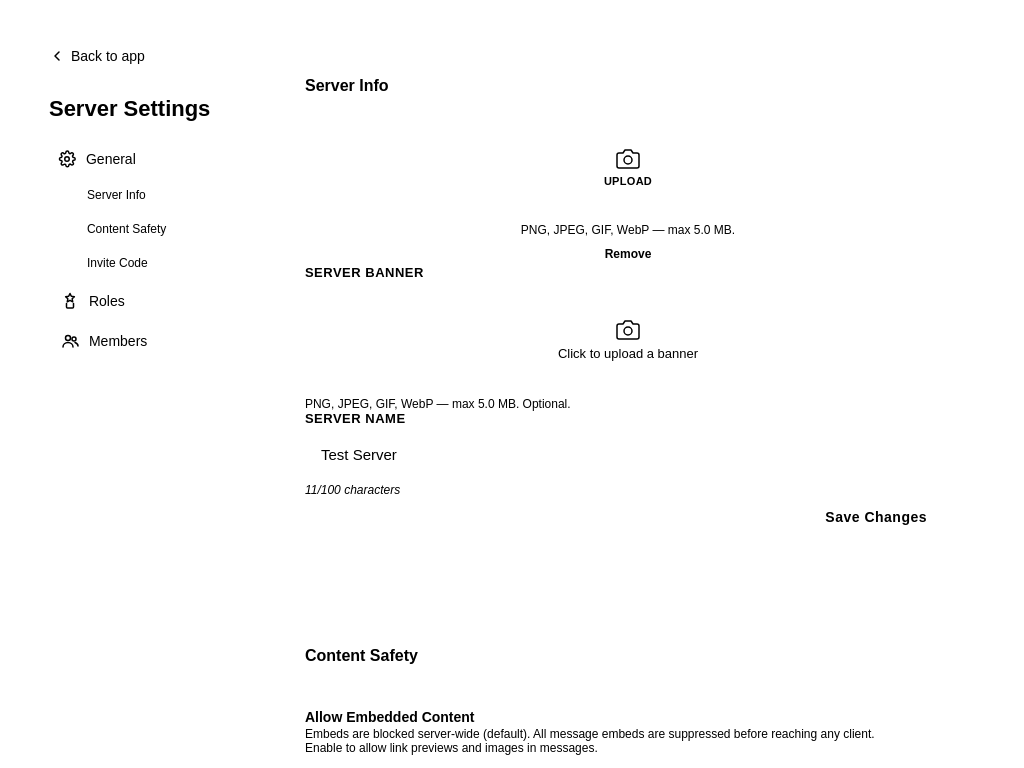
Test: ServerSettingsPage › does not expose a server icon path as an anonymous image source
Click the button "Remove".
click(628, 254)  # box [521,245,735,263]
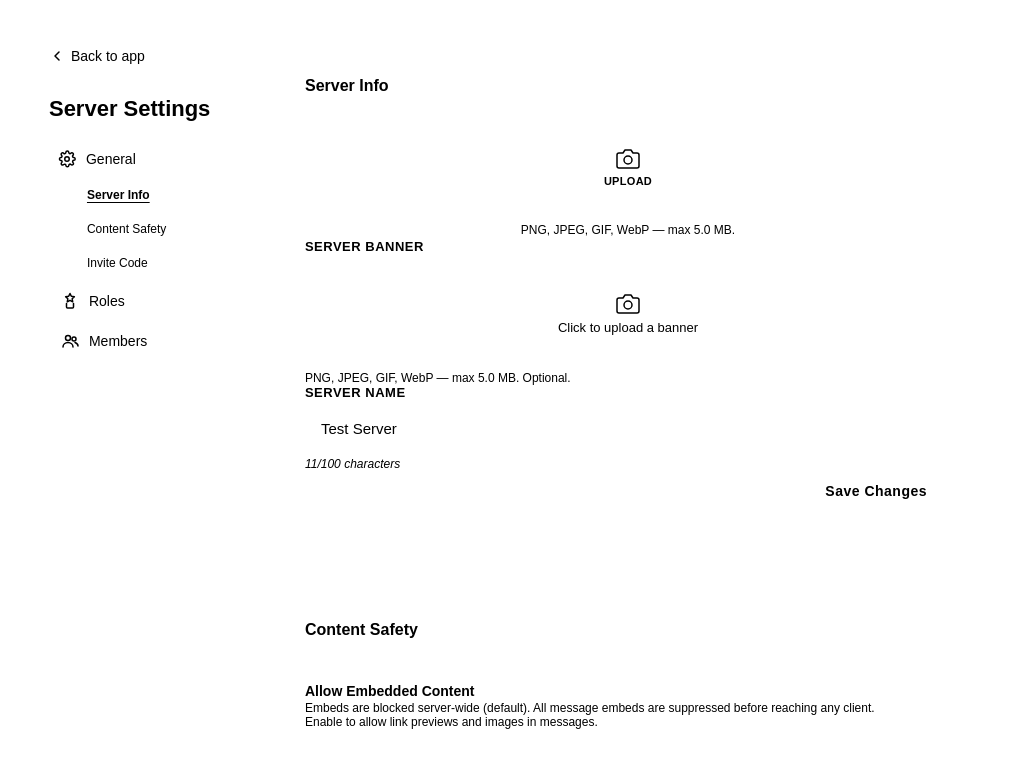
Check: the button "Remove" is gone
